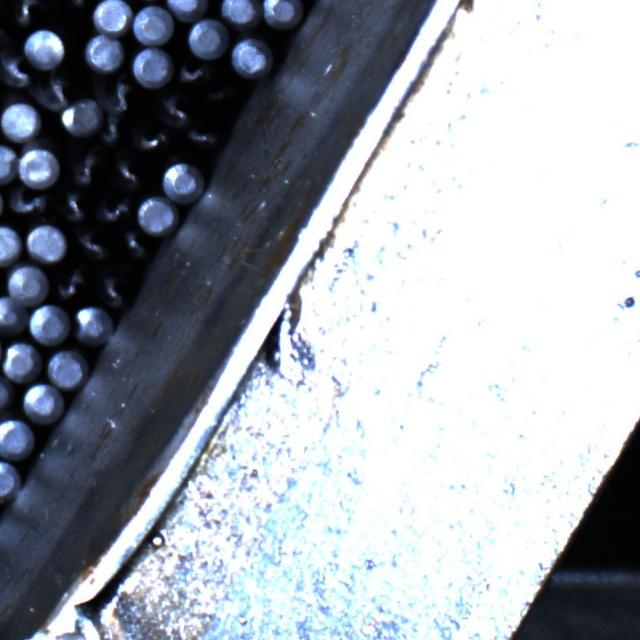tool: (27, 302, 70, 344), (18, 146, 60, 188), (162, 160, 204, 202), (132, 4, 174, 46), (7, 263, 49, 305), (72, 304, 114, 346), (3, 339, 44, 381), (22, 383, 64, 424), (230, 38, 272, 79), (24, 27, 66, 68), (60, 95, 102, 136), (48, 348, 88, 391), (188, 19, 230, 59), (24, 223, 66, 263), (1, 100, 43, 140), (84, 32, 125, 72), (136, 196, 176, 236), (132, 46, 172, 86), (0, 418, 33, 460), (92, 0, 131, 34), (220, 0, 262, 28), (261, 0, 302, 28), (0, 296, 27, 336), (0, 224, 22, 266), (0, 460, 21, 504), (164, 0, 208, 18), (0, 143, 18, 185), (0, 372, 15, 416)
tool_b: (68, 143, 109, 190), (95, 265, 134, 309), (96, 76, 134, 118), (0, 46, 32, 94), (94, 109, 132, 149), (72, 226, 114, 262), (54, 264, 92, 302), (6, 187, 49, 220), (156, 90, 192, 128), (37, 74, 73, 112), (111, 152, 145, 192), (0, 0, 49, 27), (94, 192, 134, 225), (116, 227, 151, 262), (56, 187, 90, 223), (182, 120, 220, 152), (174, 56, 212, 86), (132, 123, 170, 153), (203, 80, 237, 108), (52, 0, 96, 13)
